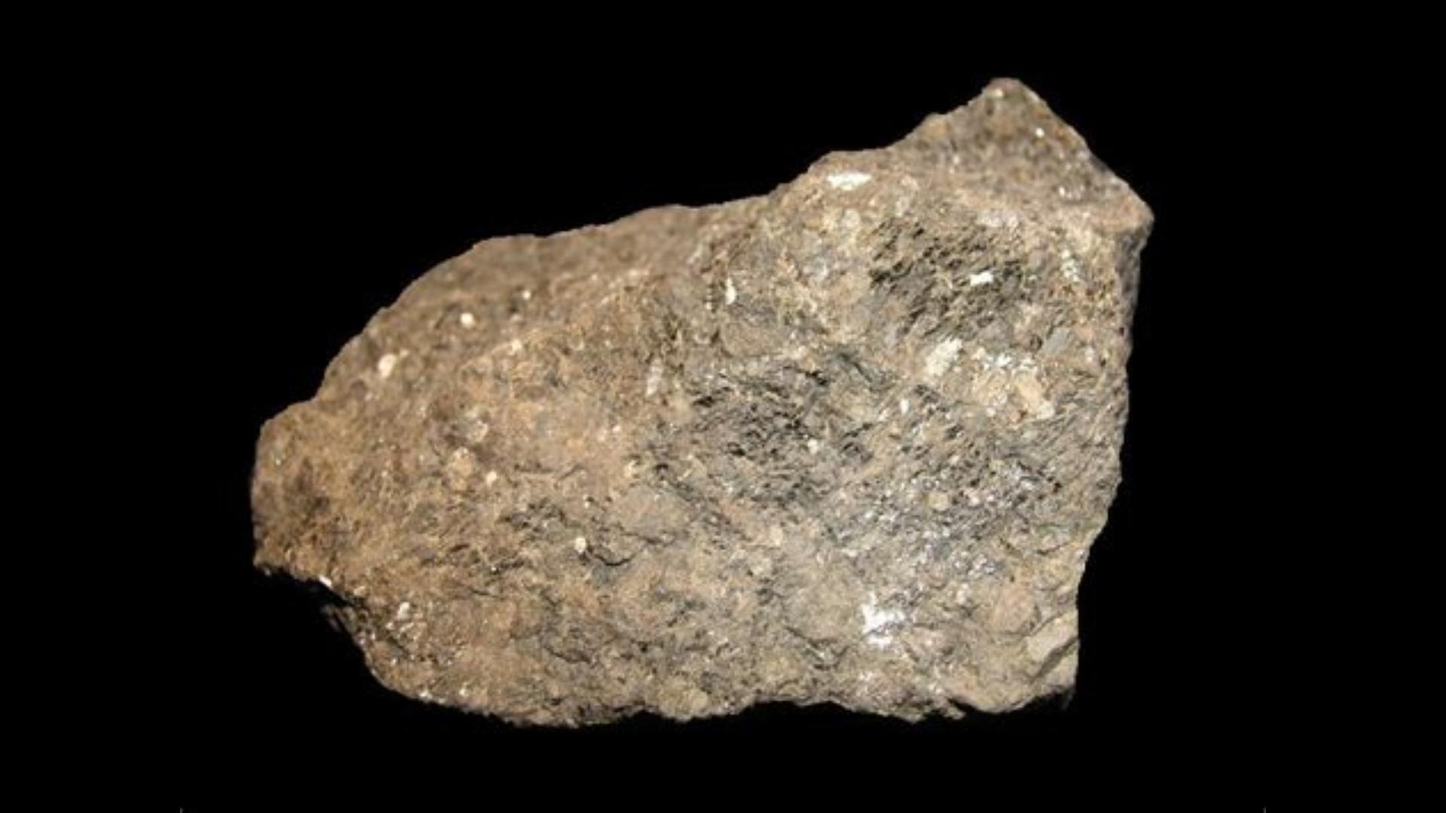rock: (256, 80, 1149, 717)
